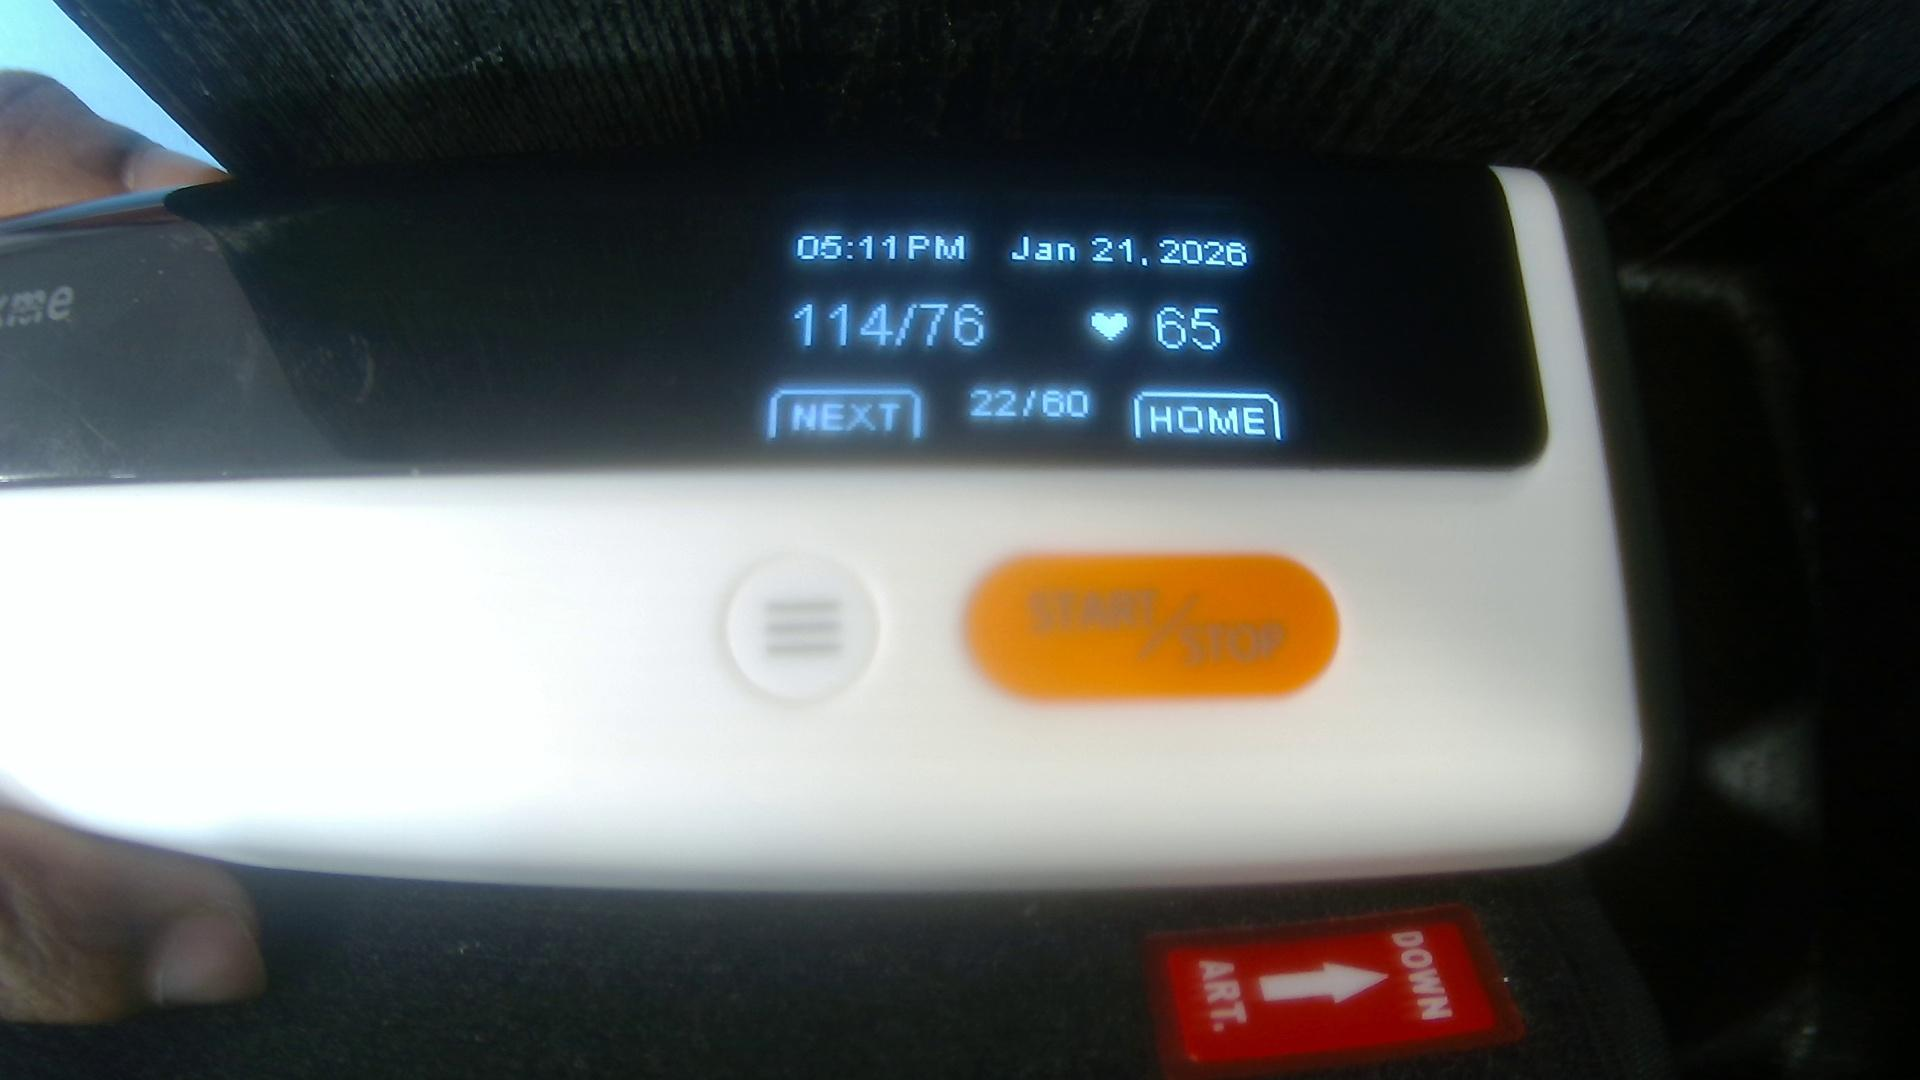DISPLAY: (11, 171, 1531, 489)
